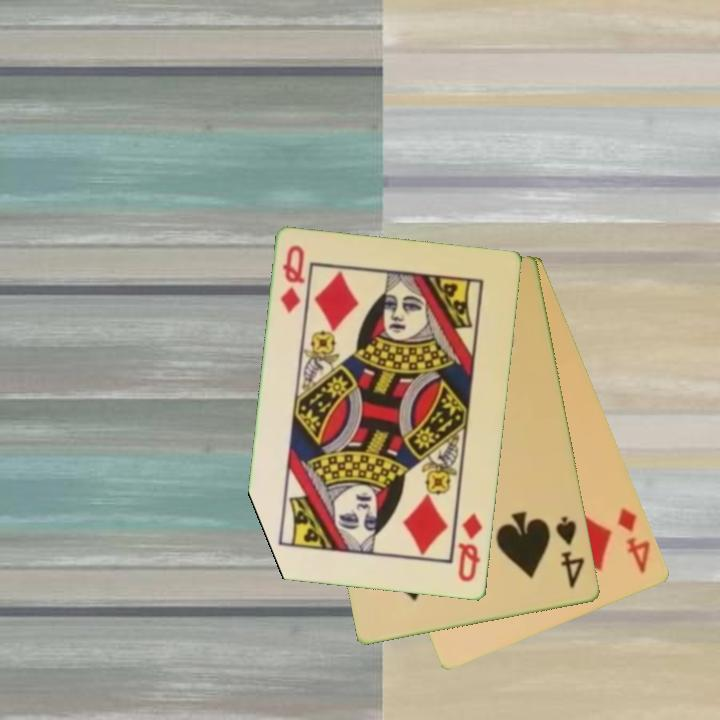4d: (614, 505, 654, 576)
4s: (552, 512, 588, 591)
Qd: (454, 509, 486, 585), (277, 242, 308, 317)
